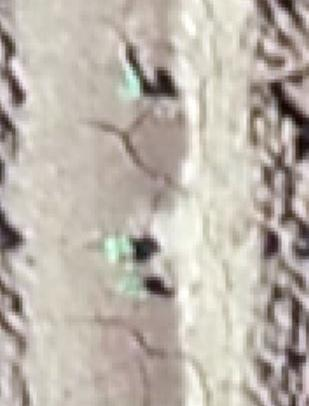cotton: (104, 236, 134, 263), (120, 277, 146, 298), (122, 71, 142, 95)
